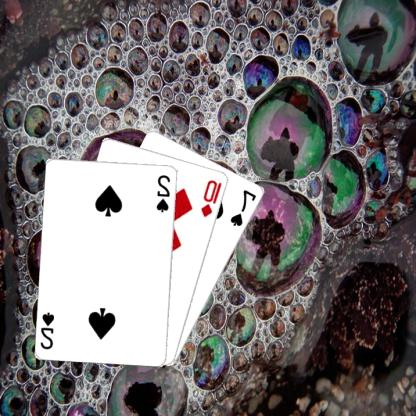10D: (200, 177, 225, 218)
2S: (39, 309, 57, 350), (156, 172, 173, 213)
7S: (230, 187, 260, 227)
